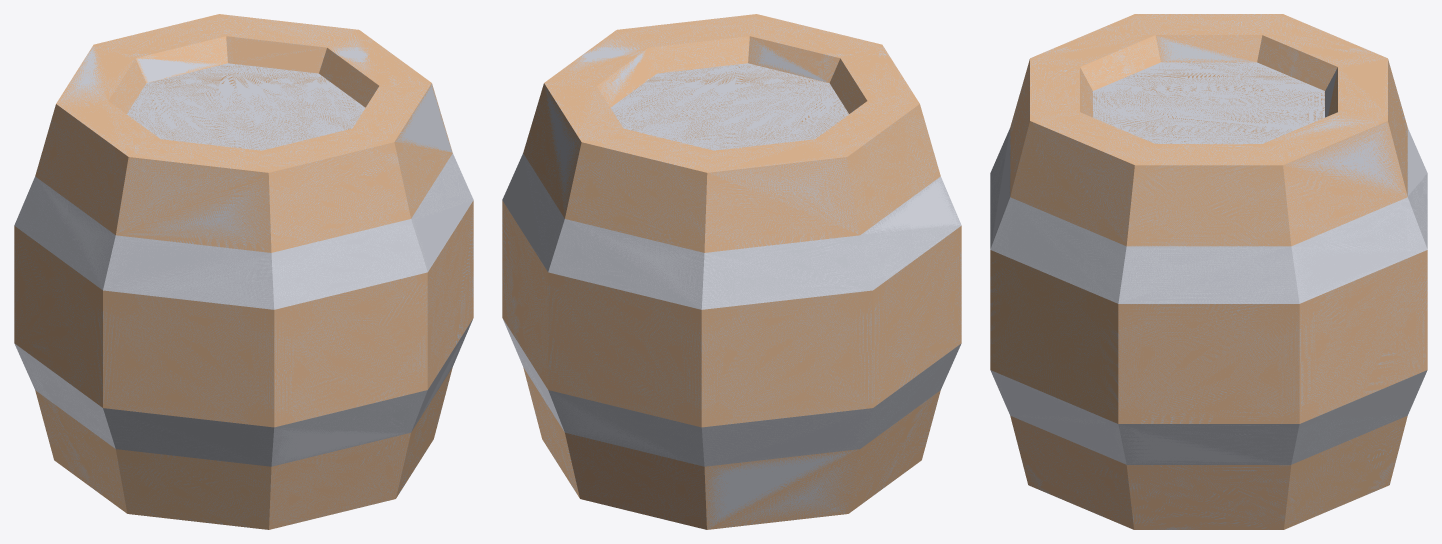
File: barrel.fbx
The picture shows the model from 3 angles, left to right: view 1: azimuth 30°, elevation 25°; view 2: azimuth 150°, elevation 25°; view 3: azimuth 270°, elevation 25°; orthographic projection. The views are drawn at different scales.
Parts seen in each view (by area): view 1: barrel_LOD0; view 2: barrel_LOD0; view 3: barrel_LOD0.
Part boxes in pixels (box(x1,y1,x2,y2)): barrel_LOD0: box(14, 14, 473, 529); barrel_LOD0: box(502, 14, 961, 529); barrel_LOD0: box(990, 14, 1427, 529).
Size of what is drawn, in the model's own units: 43.58 by 40.02 by 43.58.
